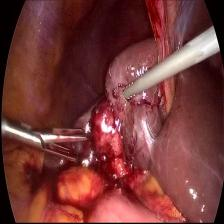Grasper: (12, 113, 90, 176)
Irrigator: (121, 72, 145, 106)
